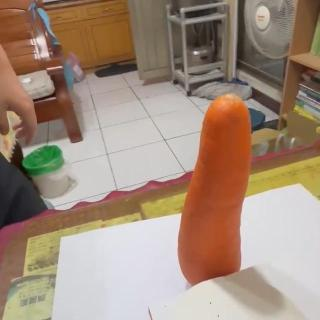carrot: (175, 93, 252, 287)
